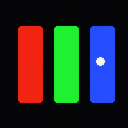0 point: (96, 57, 104, 65)
